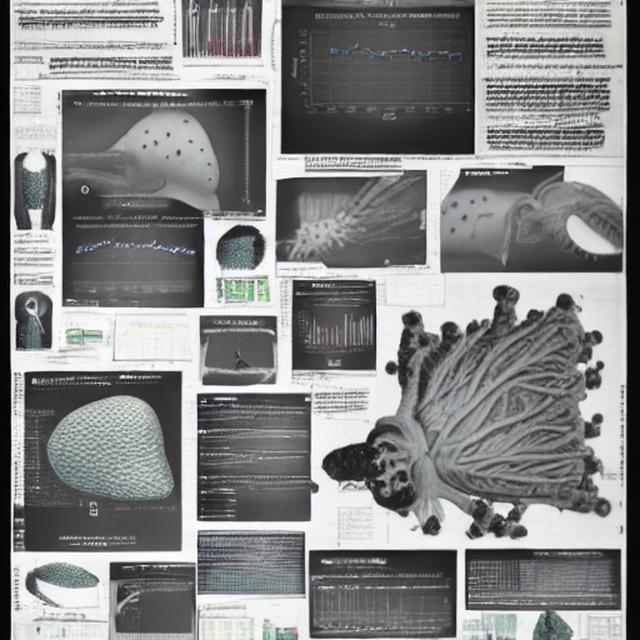Graph: (286, 7, 475, 122), (104, 311, 195, 367), (296, 301, 376, 357), (378, 273, 443, 310)
